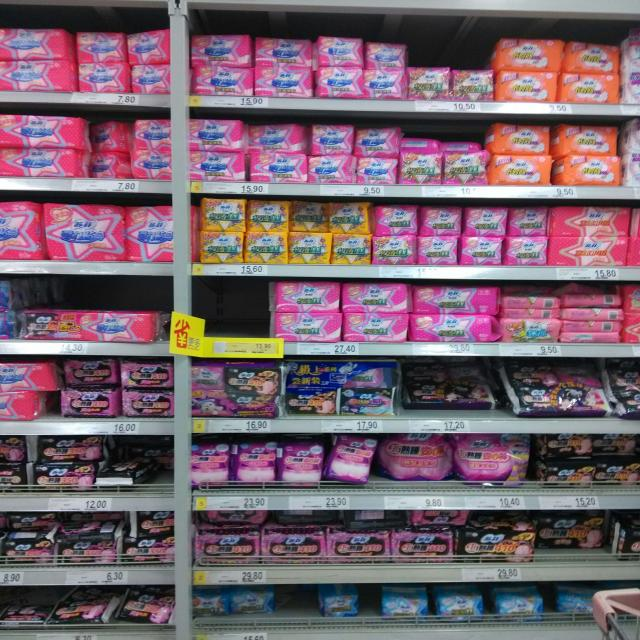empty: (193, 282, 273, 349), (268, 580, 322, 627)
